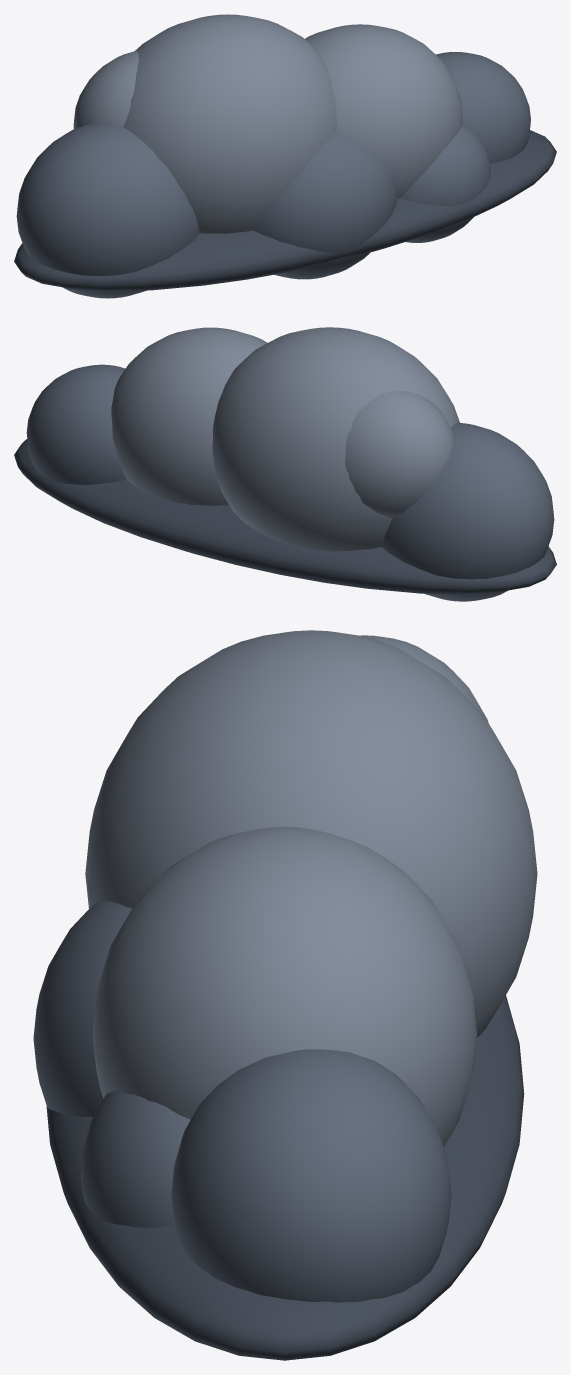
File: nube_tormenta.glb
The picture shows the model from 3 angles, top to bottom: view 1: azimuth 30°, elevation 25°; view 2: azimuth 150°, elevation 25°; view 3: azimuth 270°, elevation 25°; orthographic projection. The views are drawn at different scales.
Visible parts, largest first — view 1: Sphere.001, Sphere, Sphere.002, Sphere.007, Sphere.004, Sphere.003, Sphere.006, Sphere.005; view 2: Sphere.001, Sphere, Sphere.007, Sphere.002, Sphere.005, Sphere.003; view 3: Sphere.001, Sphere.002, Sphere.003, Sphere.007, Sphere.004, Sphere.006, Sphere.005.
Part boxes in pixels (box(x1,y1,x2,y2)): Sphere.001: box(123, 14, 336, 233); Sphere: box(16, 124, 199, 298); Sphere.002: box(305, 24, 462, 198); Sphere.007: box(14, 130, 556, 291); Sphere.004: box(253, 131, 397, 279); Sphere.003: box(436, 52, 530, 163); Sphere.006: box(400, 124, 490, 242); Sphere.005: box(73, 50, 138, 128); Sphere.001: box(212, 327, 459, 551); Sphere: box(381, 422, 554, 601); Sphere.007: box(14, 439, 556, 594); Sphere.002: box(111, 327, 267, 505); Sphere.005: box(345, 390, 453, 518); Sphere.003: box(26, 364, 126, 484); Sphere.001: box(85, 630, 537, 1037); Sphere.002: box(92, 826, 476, 1146); Sphere.003: box(171, 1049, 451, 1302); Sphere.007: box(46, 995, 524, 1360); Sphere.004: box(33, 901, 132, 1116); Sphere.006: box(80, 1090, 190, 1227); Sphere.005: box(360, 635, 488, 722).
Bounding box in the file's own units: 4.6 × 1.98 × 1.89.
